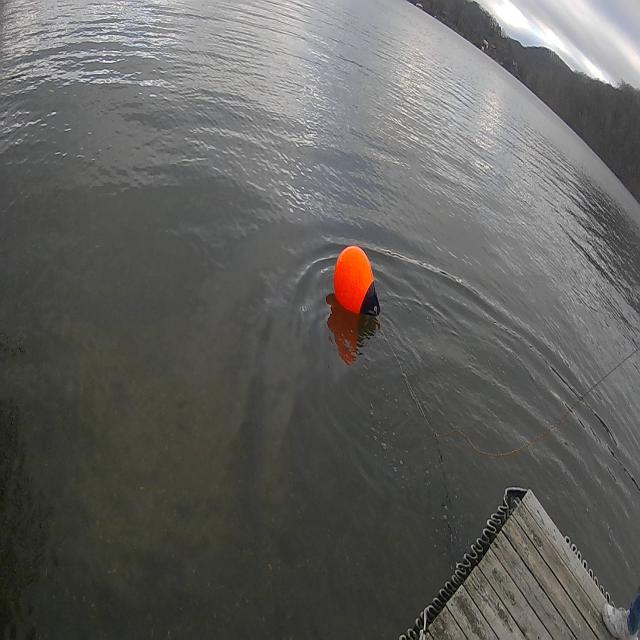Buoy: (329, 240, 385, 325)
